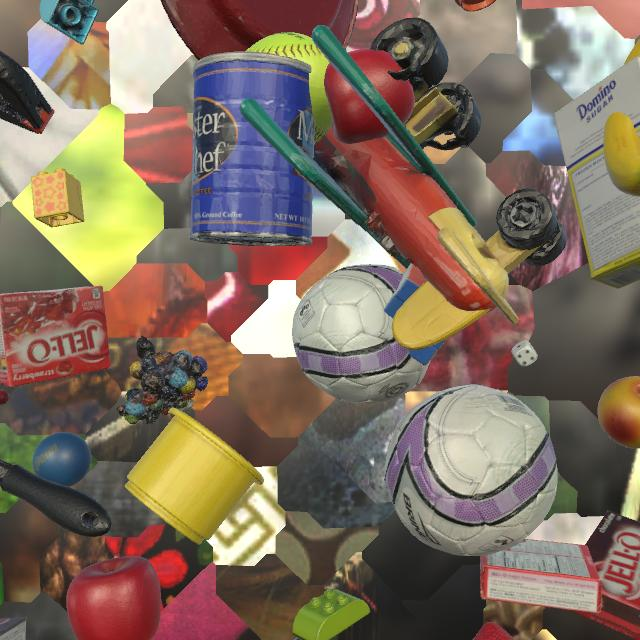ycb_002_master_chef_can: (190, 51, 315, 246)
ycb_004_sugar_box: (553, 56, 640, 289)
ycb_008_pudding_box: (570, 510, 640, 640), (0, 617, 27, 640)
ycb_009_gelatin_box: (0, 286, 112, 387), (480, 539, 602, 614)
ycb_011_banana: (603, 39, 640, 197)
ycb_012_strawberry: (473, 622, 514, 640)
ycb_013_apple: (324, 48, 415, 144), (66, 556, 161, 640)
ycb_015_peach: (598, 376, 640, 449)
